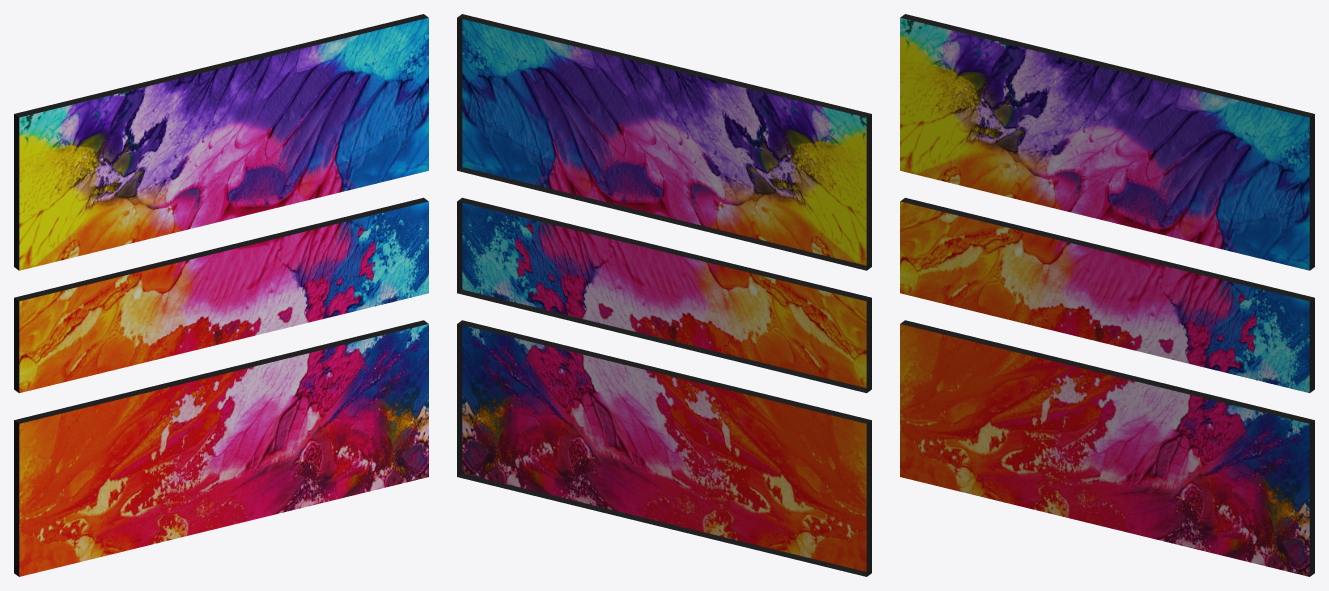
The model's file is Frame_05.FBX.
3 renders of one model, left to right at view 1: azimuth 30°, elevation 25°; view 2: azimuth 150°, elevation 25°; view 3: azimuth 330°, elevation 25°, orthographic.
Parts seen in each view (by area): view 1: Frame05; view 2: Frame05; view 3: Frame05.
Part boxes in pixels (x1=…): Frame05: x1=14, y1=14, x2=428, y2=576; Frame05: x1=457, y1=14, x2=871, y2=576; Frame05: x1=900, y1=14, x2=1314, y2=576.
Bounding box in the file's own units: 1.4 × 1.5 × 0.03.
